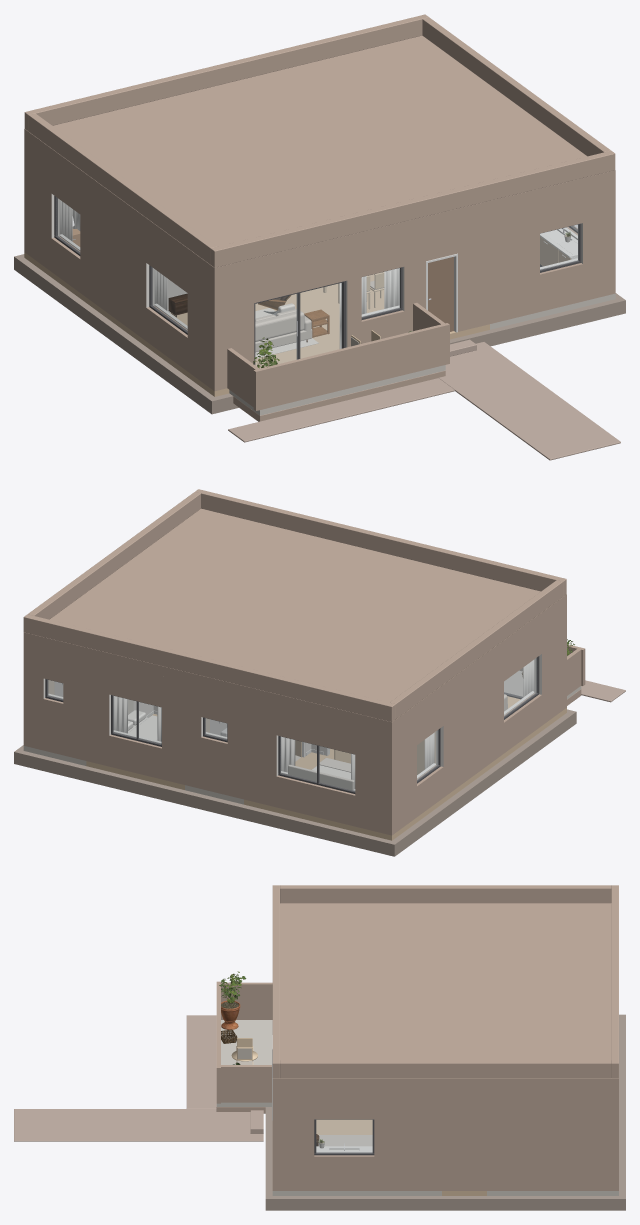
File: house.glb
The picture shows the model from 3 angles, top to bottom: view 1: azimuth 30°, elevation 25°; view 2: azimuth 150°, elevation 25°; view 3: azimuth 270°, elevation 25°; orthographic projection. The views are drawn at different scales.
Parts seen in each view (by area): view 1: Roof_Slab, Wall_Exterior_South_Seg3, Env_Path, Roof_Parapet_S, Wall_Balcony_South_Seg0, Roof_Parapet_N, Wall_Exterior_West_Seg1, Foundation_Plinth, Roof_Parapet_W, Wall_Exterior_South_Seg0, Roof_Parapet_E, Env_Terrace (+30 smaller); view 2: Roof_Slab, Foundation_Plinth, Roof_Parapet_N, Roof_Parapet_S, Wall_Exterior_West_Seg1, Wall_Exterior_North_Seg1, Wall_Exterior_North_Seg3, Wall_Exterior_North_Seg0, Wall_Exterior_North_Seg2, Roof_Parapet_W, Roof_Parapet_E, Glass_Window_Master_North (+28 smaller); view 3: Roof_Slab, Wall_Exterior_East_Seg1, Env_Path, Foundation_Plinth, Roof_Parapet_E, Roof_Parapet_W, Wall_Exterior_East_Seg0, Env_Terrace, Wall_Sill_Window_Kitchen_East, Wall_Head_Window_Kitchen_East, Wall_Balcony_East_Seg0, Glass_Window_Kitchen_East (+11 smaller).
Part boxes in pixels (x1,y1,x2,y2): Roof_Slab: (24,35,615,275); Wall_Exterior_South_Seg3: (458,200,539,331); Env_Path: (439,342,620,460); Roof_Parapet_S: (210,150,615,267); Wall_Balcony_South_Seg0: (253,323,449,410); Roof_Parapet_N: (24,14,428,131); Wall_Exterior_West_Seg1: (80,181,154,340); Foundation_Plinth: (14,254,625,414); Roof_Parapet_W: (28,113,216,264); Wall_Exterior_South_Seg0: (210,269,254,391); Roof_Parapet_E: (422,17,610,156); Env_Terrace: (228,378,454,442); Roof_Slab: (23,508,566,728); Foundation_Plinth: (14,709,576,856); Roof_Parapet_N: (23,614,395,721); Roof_Parapet_S: (195,489,566,596); Wall_Exterior_West_Seg1: (436,651,503,797); Wall_Exterior_North_Seg1: (227,692,278,807); Wall_Exterior_North_Seg3: (63,652,110,766); Wall_Exterior_North_Seg0: (355,723,396,835); Wall_Exterior_North_Seg2: (162,676,202,788); Roof_Parapet_W: (390,580,562,718); Roof_Parapet_E: (28,492,200,619); Glass_Window_Master_North: (280,737,354,791); Roof_Slab: (272,903,618,1085); Wall_Exterior_East_Seg1: (374,1088,610,1190); Env_Path: (14,1109,263,1141); Foundation_Plinth: (265,1014,625,1210); Roof_Parapet_E: (280,1060,611,1078); Roof_Parapet_W: (280,885,611,903); Wall_Exterior_East_Seg0: (281,1088,314,1190); Env_Terrace: (186,1015,216,1108); Wall_Sill_Window_Kitchen_East: (314,1155,374,1190); Wall_Head_Window_Kitchen_East: (314,1088,374,1119); Wall_Balcony_East_Seg0: (221,1065,271,1102); Glass_Window_Kitchen_East: (316,1120,372,1152).
Bounding box in the file's own units: 11.9 × 4.25 × 16.3.
Materials: 49 (21 with a texture image).
